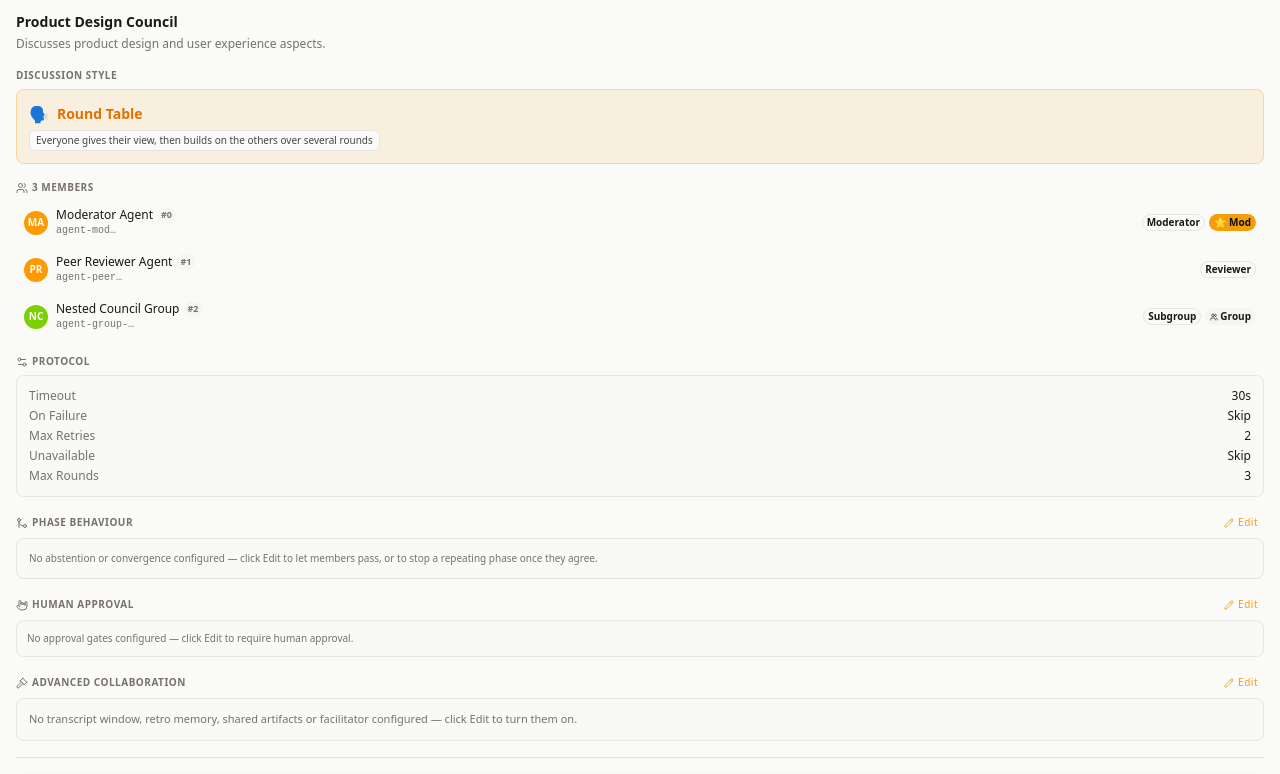
Scenario: GroupConfigPanel › group collaboration parity › offers the advanced section on a group that has none of it configured
Expected: the text with test id "group-advanced-none" is shown, [16, 698, 1264, 740]
Click the button with test id "group-advanced-edit": (1241, 682) [1218, 673, 1264, 692]
(page scrolled)
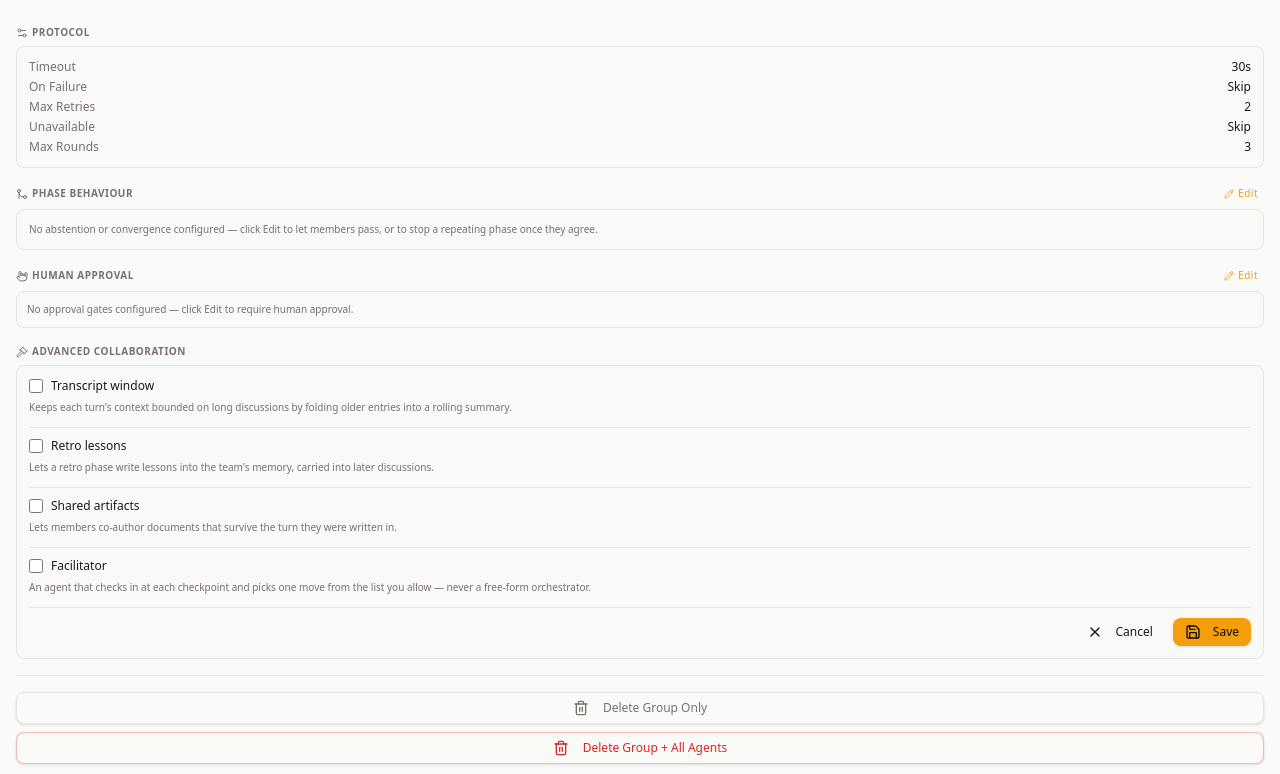
Expected: the element with test id "group-advanced-editor" is shown, [16, 365, 1264, 659]
